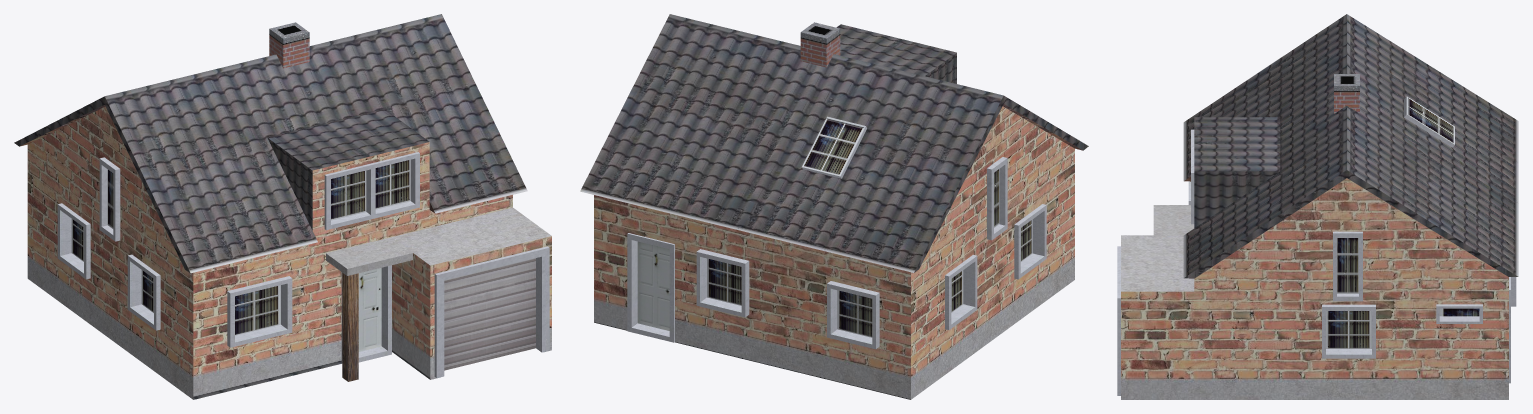
Rendered from h_house4.glb.
3 renders of one model, left to right at view 1: azimuth 30°, elevation 25°; view 2: azimuth 150°, elevation 25°; view 3: azimuth 270°, elevation 25°, orthographic. The views are drawn at different scales.
Parts seen in each view (by area): view 1: house4, garage_door4, window_wide, window19, door7, window20, window21, column4, window_vertical5, chimney3; view 2: house4, door8, window24, window25, window_roof3, window20, window21, window_vertical5, chimney3; view 3: house4, window22, window_vertical6, window_roof3, chimney3, window_bathroom4, garage_door4, window_wide.
Part boxes in pixels (x1,y1,x2,y2): house4: [14, 14, 551, 399]; garage_door4: [434, 246, 549, 377]; window_wide: [324, 152, 419, 230]; window19: [227, 276, 292, 347]; door7: [341, 265, 391, 363]; window20: [127, 254, 160, 330]; window21: [57, 203, 90, 279]; column4: [342, 272, 358, 381]; window_vertical5: [99, 157, 120, 241]; chimney3: [269, 22, 309, 68]; house4: [580, 14, 1088, 399]; door8: [627, 233, 674, 342]; window24: [696, 249, 749, 317]; window25: [827, 281, 879, 349]; window_roof3: [802, 116, 866, 178]; window20: [1014, 204, 1046, 279]; window21: [945, 255, 977, 329]; window_vertical5: [987, 157, 1007, 240]; chimney3: [800, 22, 840, 67]; house4: [1121, 14, 1518, 399]; window22: [1322, 304, 1375, 358]; window_vertical6: [1333, 231, 1362, 301]; window_roof3: [1404, 96, 1454, 147]; chimney3: [1334, 74, 1359, 113]; window_bathroom4: [1436, 304, 1482, 323]; garage_door4: [1117, 246, 1120, 395]; window_wide: [1191, 129, 1194, 224].
Bounding box in the file's own units: 2.35 × 1.78 × 2.55.
1 material, 1 textured.
